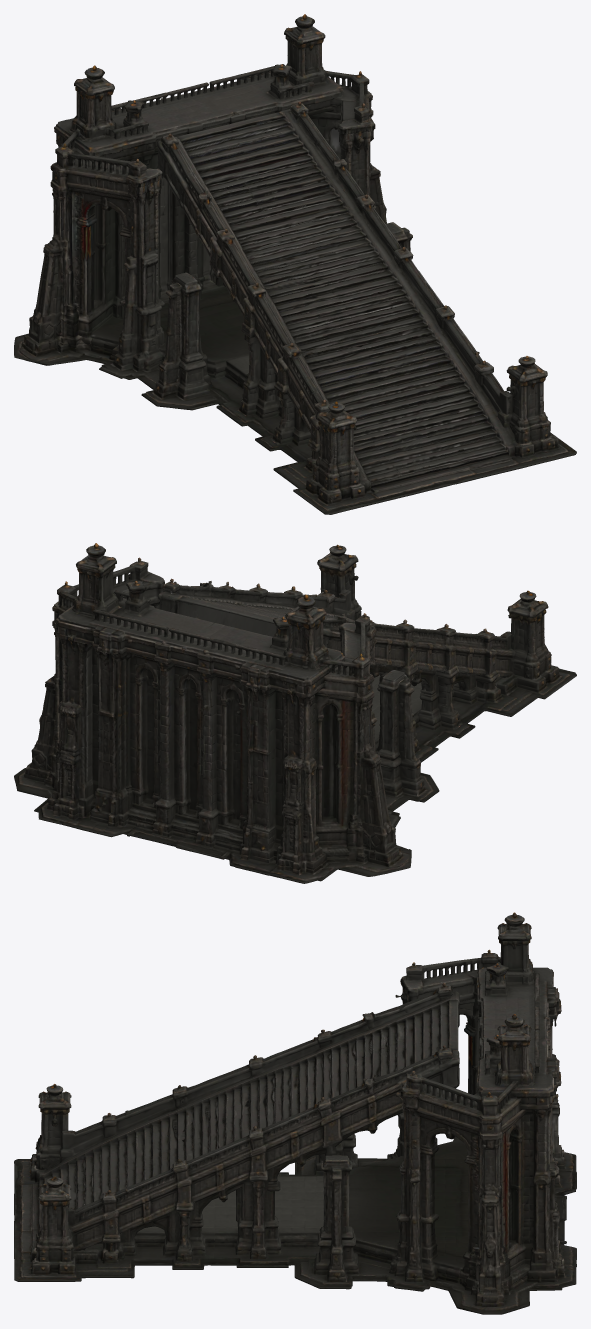
Rendered from stone_staircase.glb.
3 views of the same model, one above another, from view 1: azimuth 30°, elevation 25°; view 2: azimuth 150°, elevation 25°; view 3: azimuth 270°, elevation 25° (orthographic).
Bounding box in the file's own units: 0.7774 × 0.4946 × 0.978.
1 material, 1 textured.
